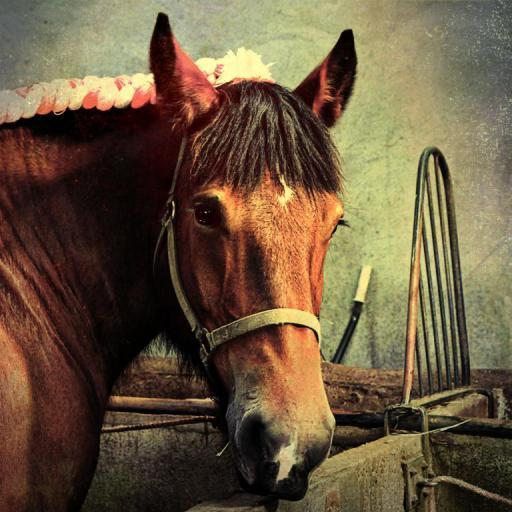horse: (0, 10, 360, 512)
